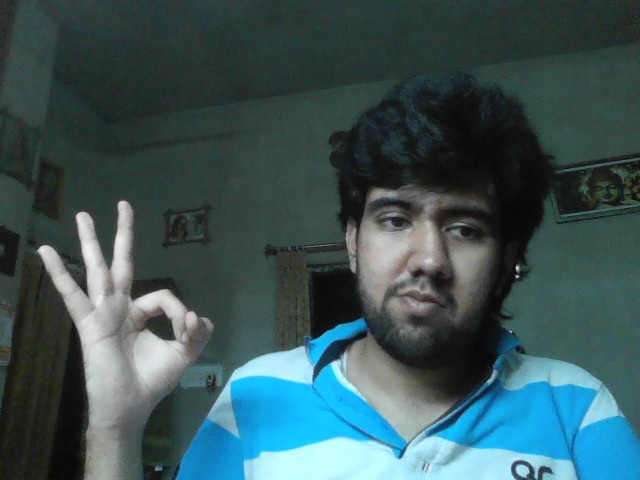Nice: (36, 200, 214, 418)
